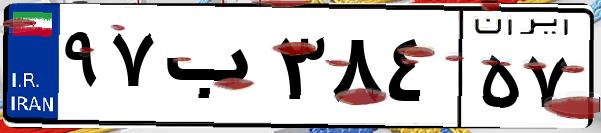3: (270, 28, 330, 110)
4: (385, 28, 445, 110)
5: (475, 38, 525, 113)
7: (525, 38, 570, 115), (110, 28, 158, 98)
8: (330, 28, 385, 110)
9: (57, 26, 110, 100)
ب: (158, 20, 270, 120)
